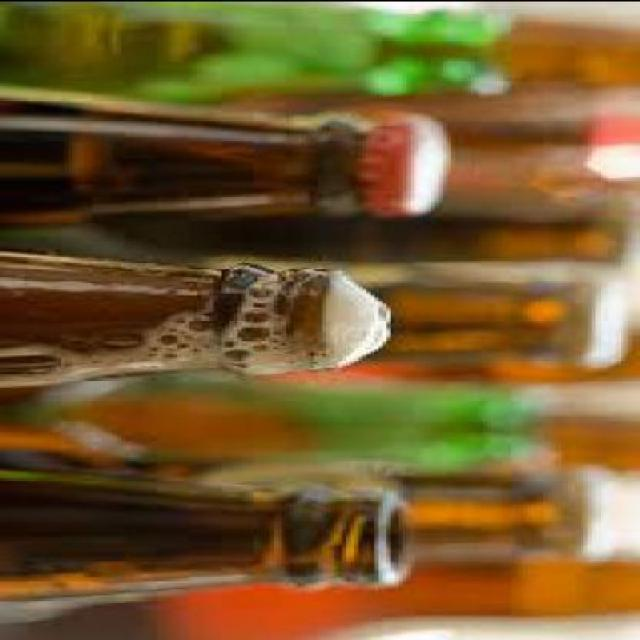GLASS: (4, 469, 419, 620), (4, 370, 551, 478), (7, 547, 640, 638), (120, 259, 632, 367), (4, 248, 367, 390), (4, 1, 511, 97), (4, 103, 367, 229), (398, 464, 620, 562), (362, 196, 632, 266)
METAL: (375, 115, 459, 217)
